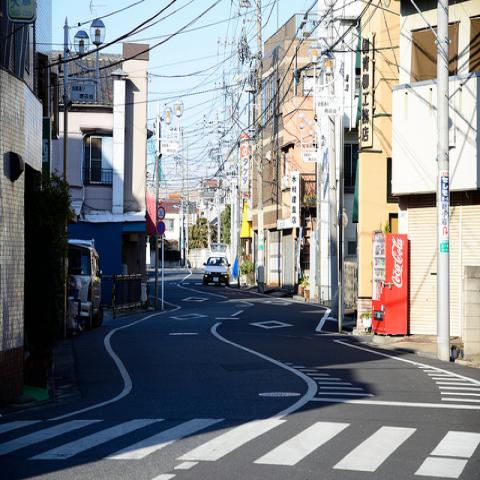car: (66, 239, 104, 328), (203, 257, 231, 287)
